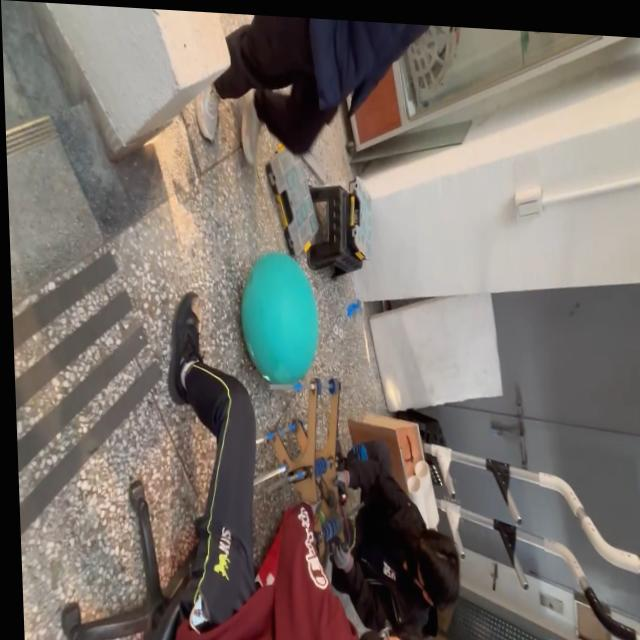ALGAE: (237, 247, 322, 389)
